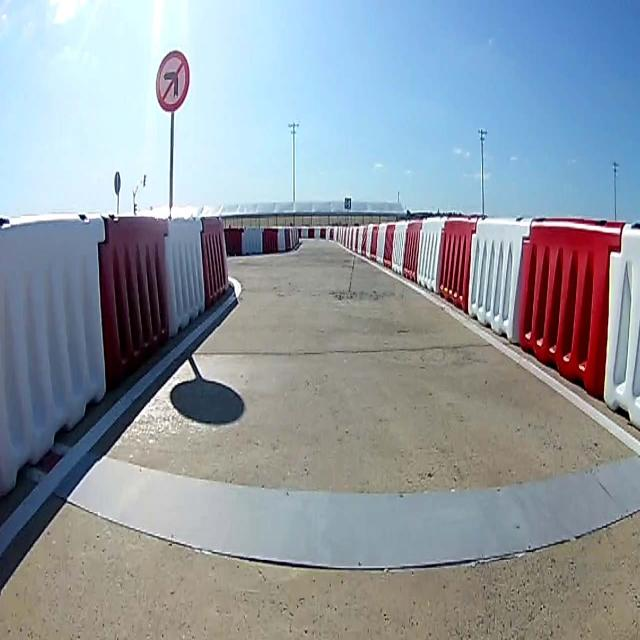soladonulmez: (154, 50, 192, 111)
